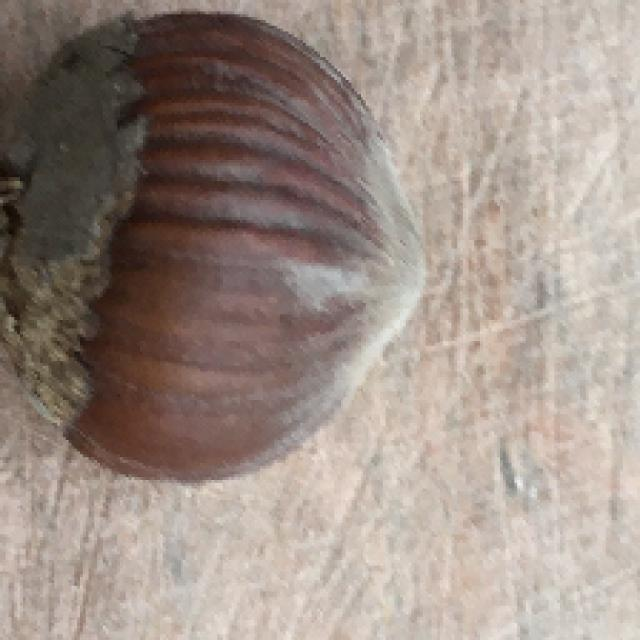damagedHazelnut: (0, 0, 440, 497)
